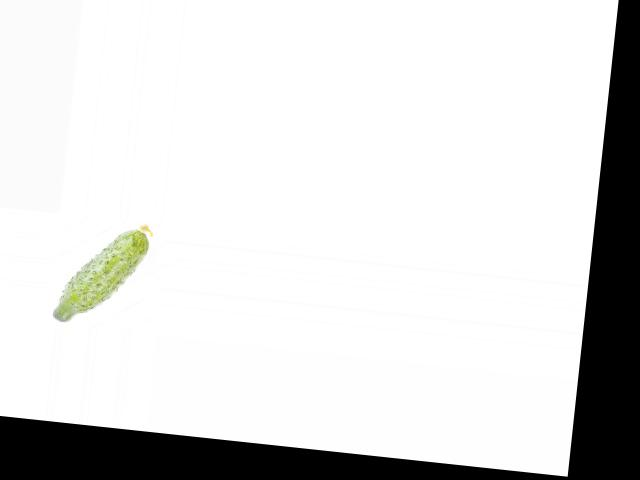cucumber: (51, 215, 153, 329)
